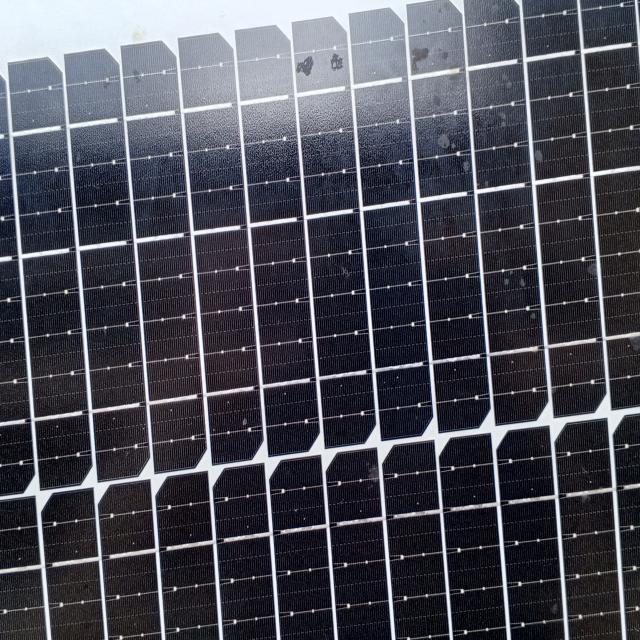Clean: (7, 6, 638, 638)
